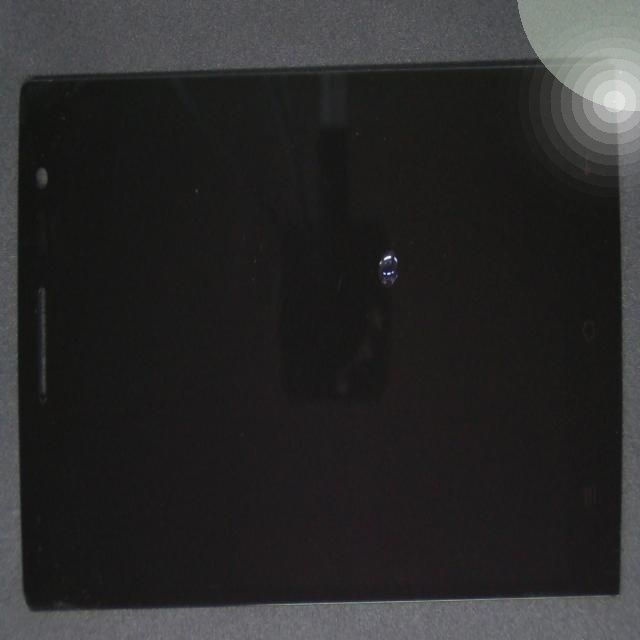oil: (219, 128, 581, 350)
